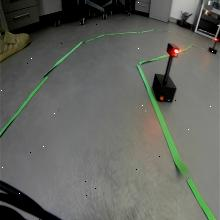red: (166, 41, 181, 59)
